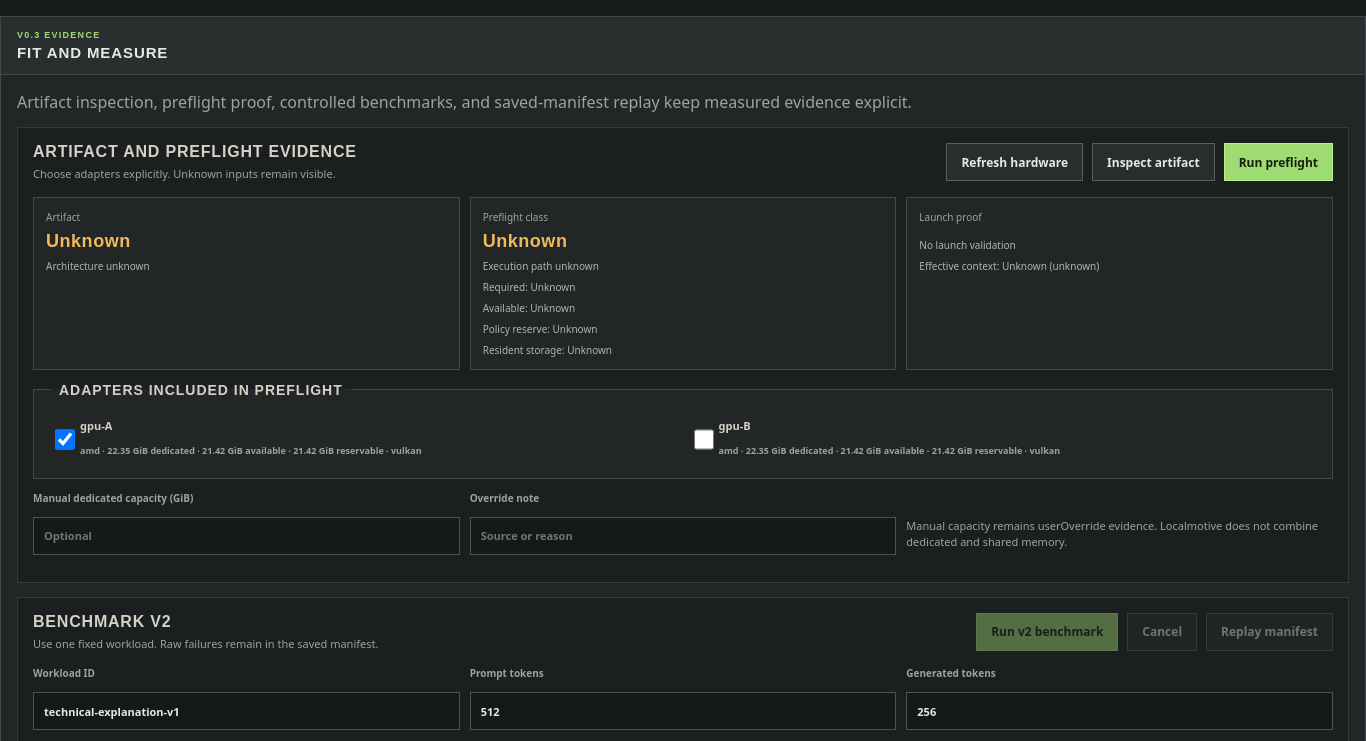
preflight staleness and adapter selection (FE-06) › marks a preflight result stale after an adapter change and clears it on re-run
expect the 1st checkbox is checked: met, box [55,420,75,458]
Click the button "Run preflight". click: [1278, 162]
box: [1224,143,1333,181]
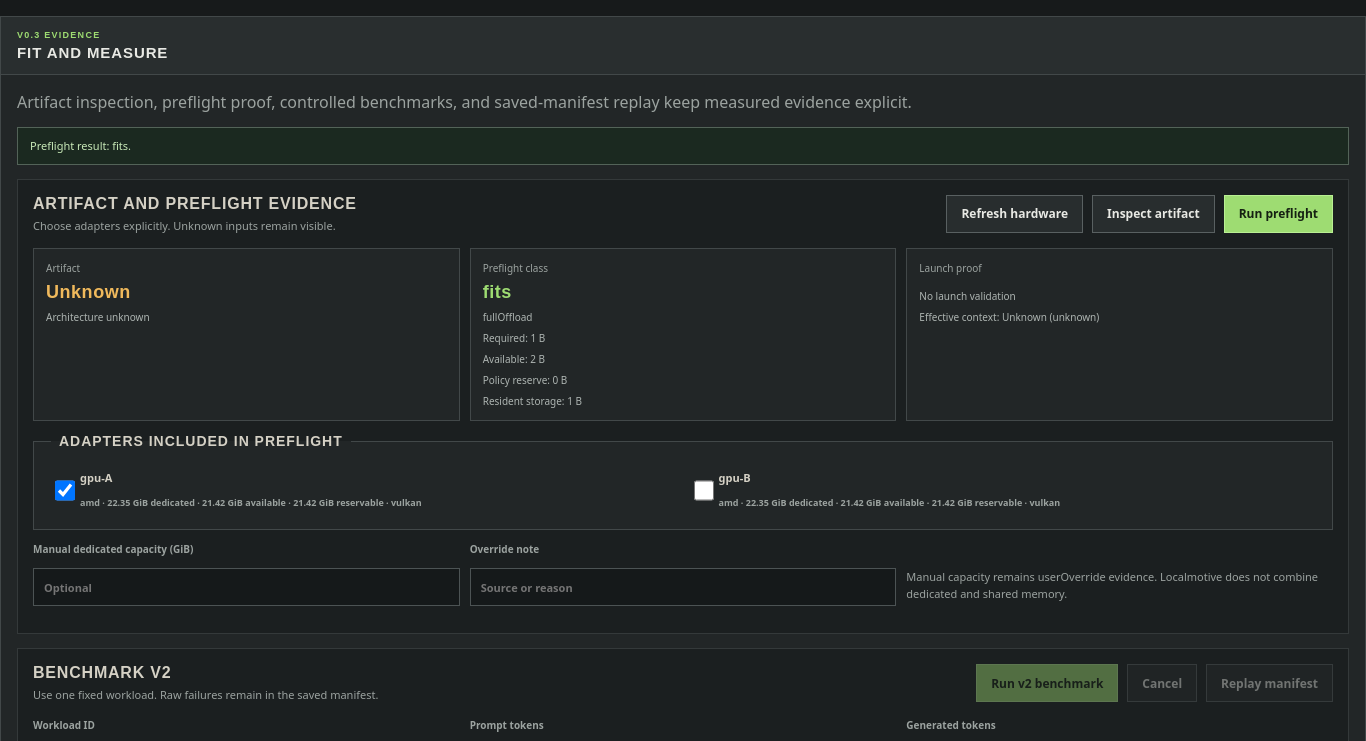
expect the text "Preflight class" is shown: met, box [483,261,548,275]
expect the text "Stale:" is not shown: met
Click the 2nd checkbox. click: [704, 491]
box: [694,472,714,509]
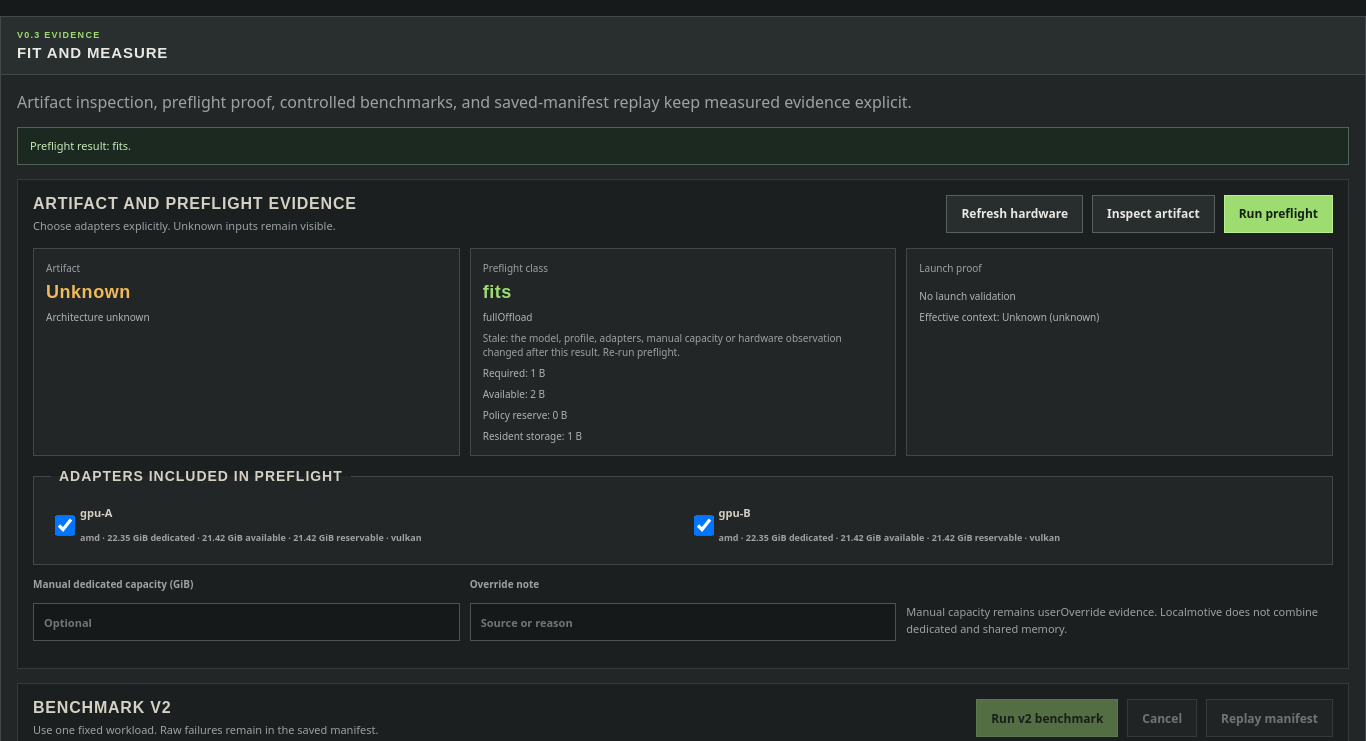
expect the text "Stale:" is shown: met, box [483,331,842,359]
Click the button "Run preflight". click: [1278, 214]
box: [1224,195,1333,233]
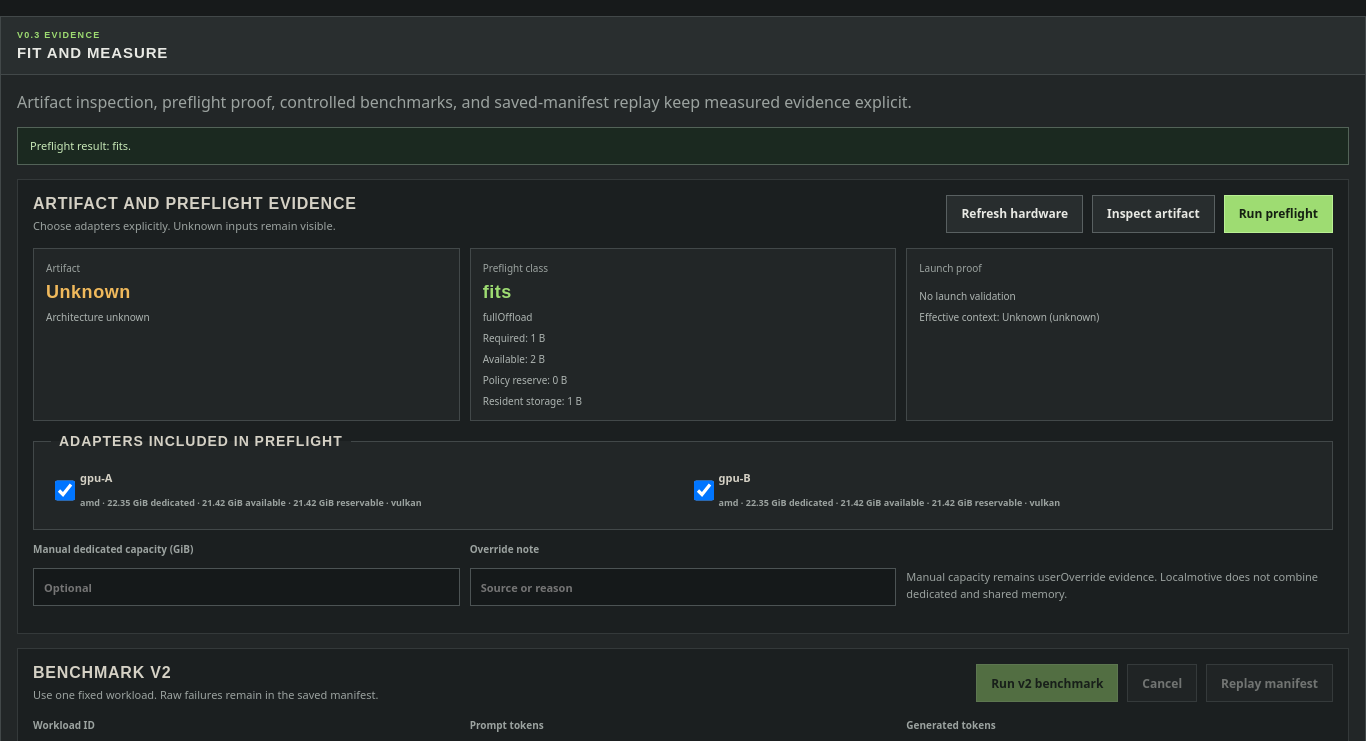
expect the text "Stale:" is gone: met
